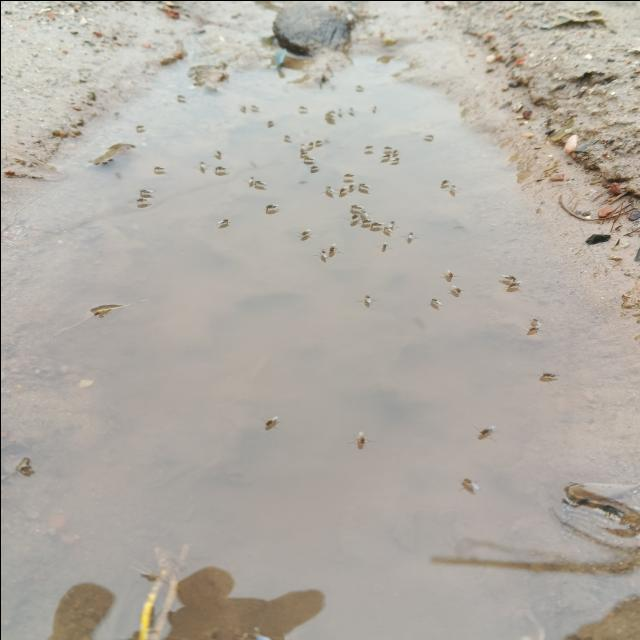Breeding Place: (0, 53, 640, 640)
